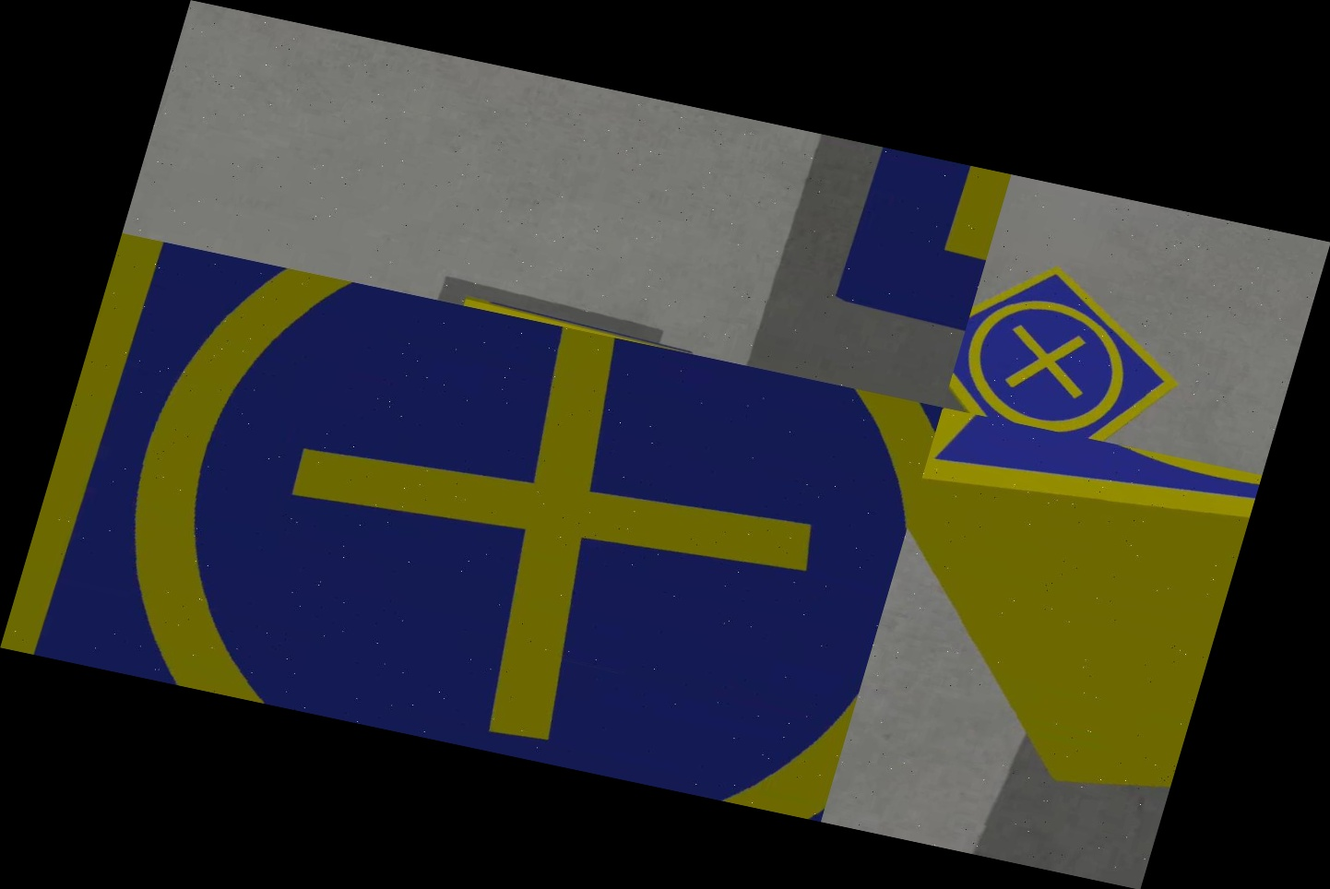large_base: (0, 233, 943, 821), (825, 145, 1011, 329)
small_base: (914, 408, 1261, 572), (943, 247, 1207, 454)
